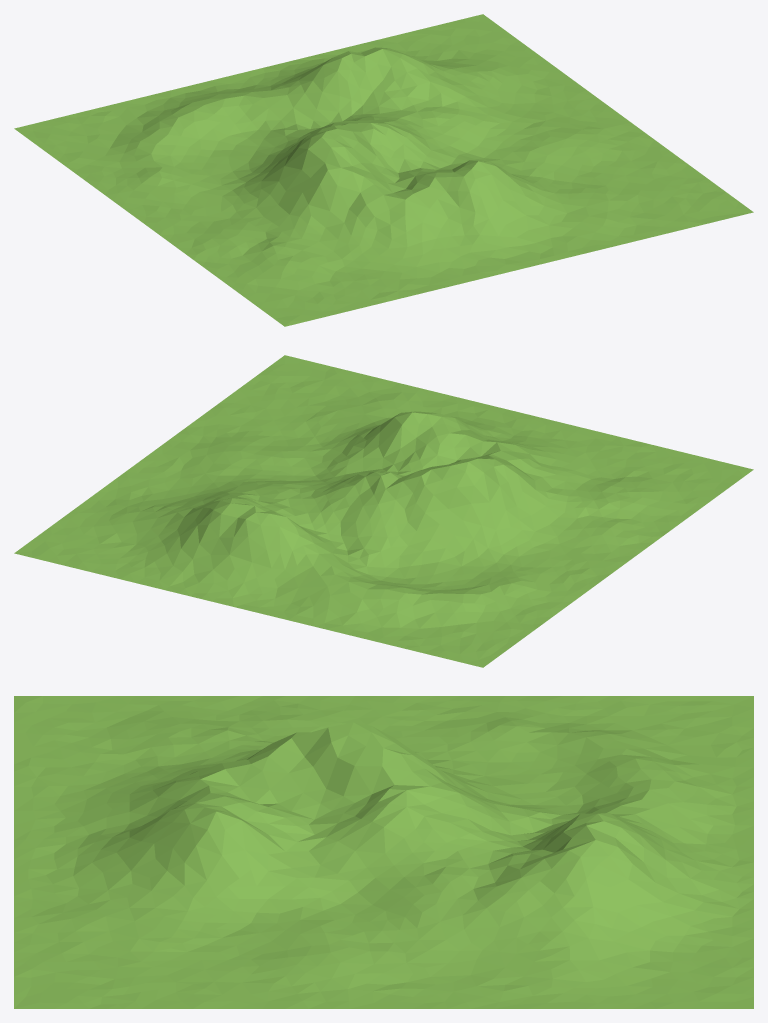
Rendered from MT_Terrain_L_a_27_LOD.fbx.
3 renders of one model, top to bottom at view 1: azimuth 30°, elevation 25°; view 2: azimuth 150°, elevation 25°; view 3: azimuth 270°, elevation 25°, orthographic. The views are drawn at different scales.
Visible parts, largest first — view 1: MT_Terrain_L_a_27_LOD0; view 2: MT_Terrain_L_a_27_LOD0; view 3: MT_Terrain_L_a_27_LOD0.
Boxes of the visible parts, bbox=[...] form: MT_Terrain_L_a_27_LOD0: bbox=[14, 14, 753, 326]; MT_Terrain_L_a_27_LOD0: bbox=[14, 355, 753, 667]; MT_Terrain_L_a_27_LOD0: bbox=[14, 696, 753, 1008].
Size of what is drawn, in the model's own units: 10000 by 1221 by 10000.
